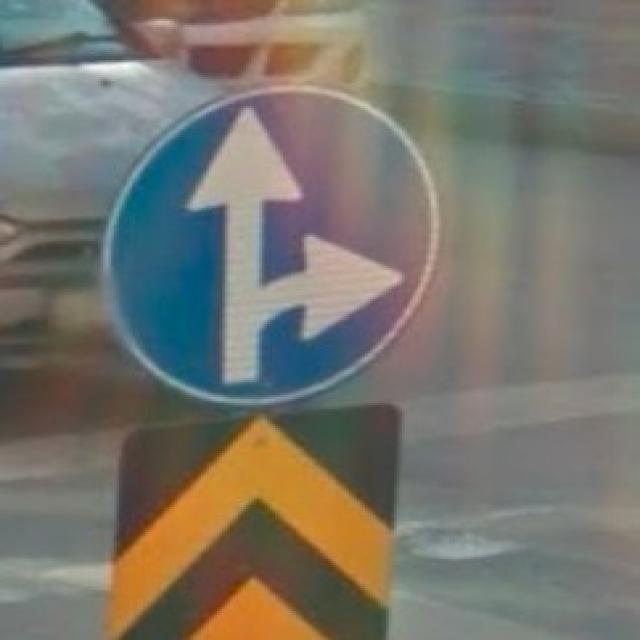Straight or Right: (116, 88, 423, 400)
